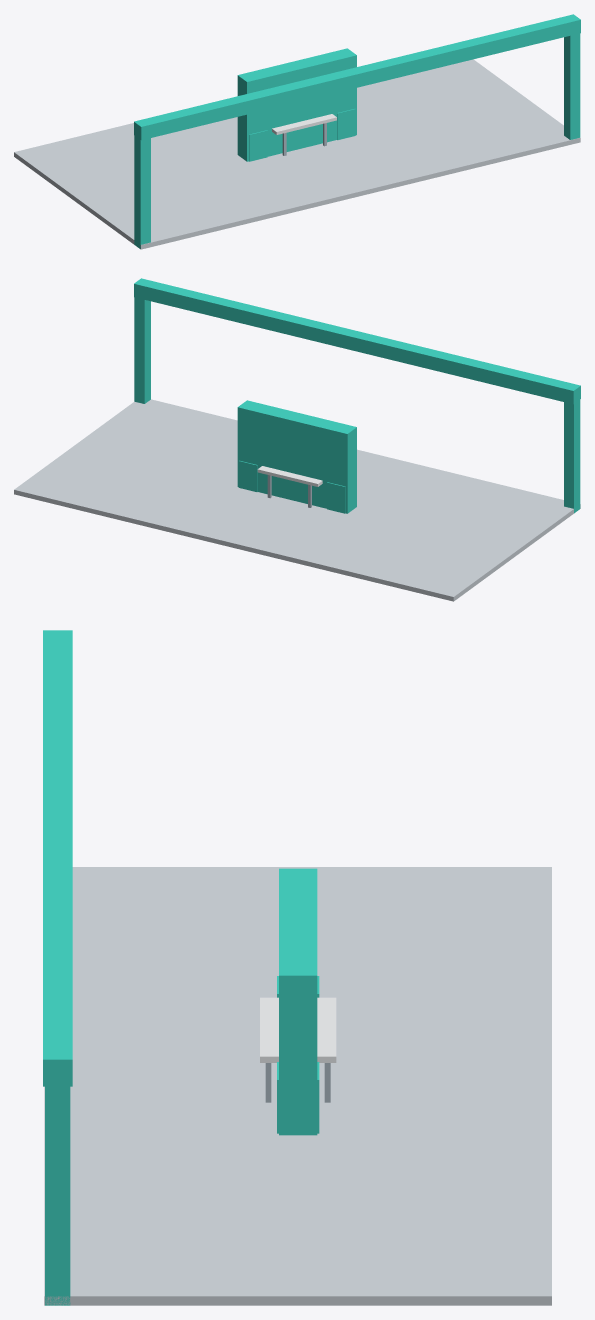
3 renders of one model, top to bottom at view 1: azimuth 30°, elevation 25°; view 2: azimuth 150°, elevation 25°; view 3: azimuth 270°, elevation 25°, orthographic. The views are drawn at different scales.
Visible parts, largest first — view 1: Exhibition Booth Concept; view 2: Exhibition Booth Concept; view 3: Exhibition Booth Concept.
Part boxes in pixels (box(x1,y1,x2,y2)): Exhibition Booth Concept: box(14, 14, 580, 249); Exhibition Booth Concept: box(14, 278, 580, 601); Exhibition Booth Concept: box(43, 630, 551, 1305).
Size of the model in its own units: 12 by 3.2 by 6.02.
